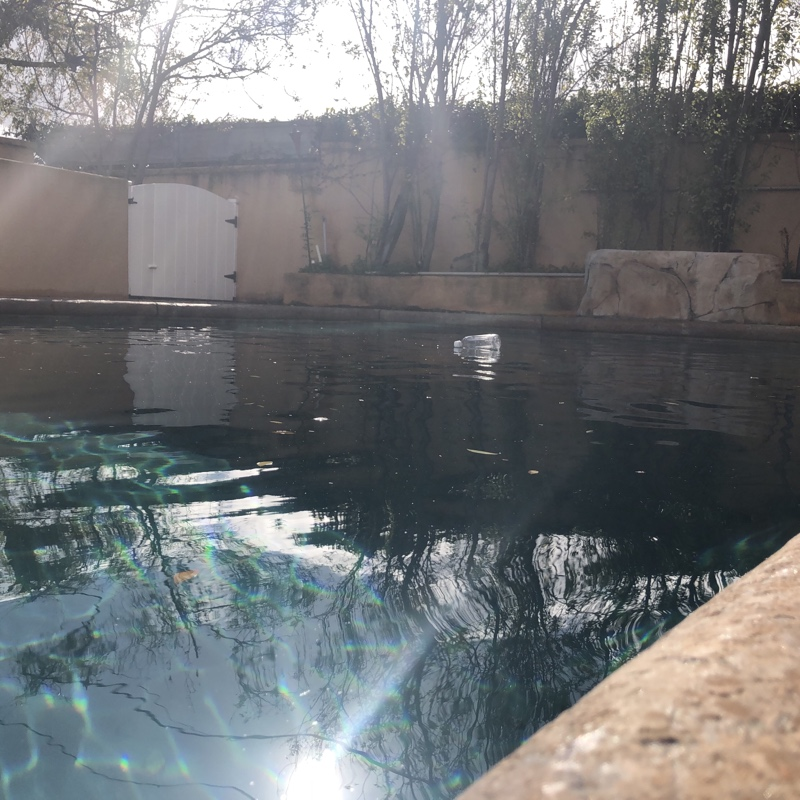Plastic Bottle: (454, 335, 500, 348)
